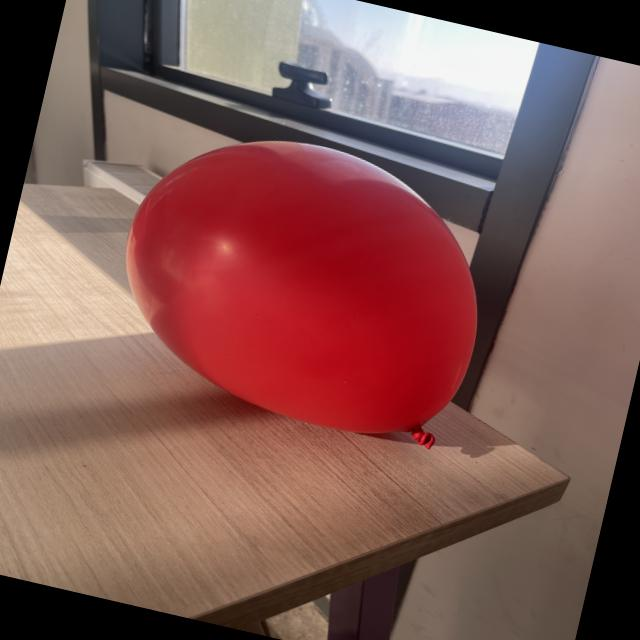balloon: (126, 141, 476, 448), (296, 227, 298, 230)
